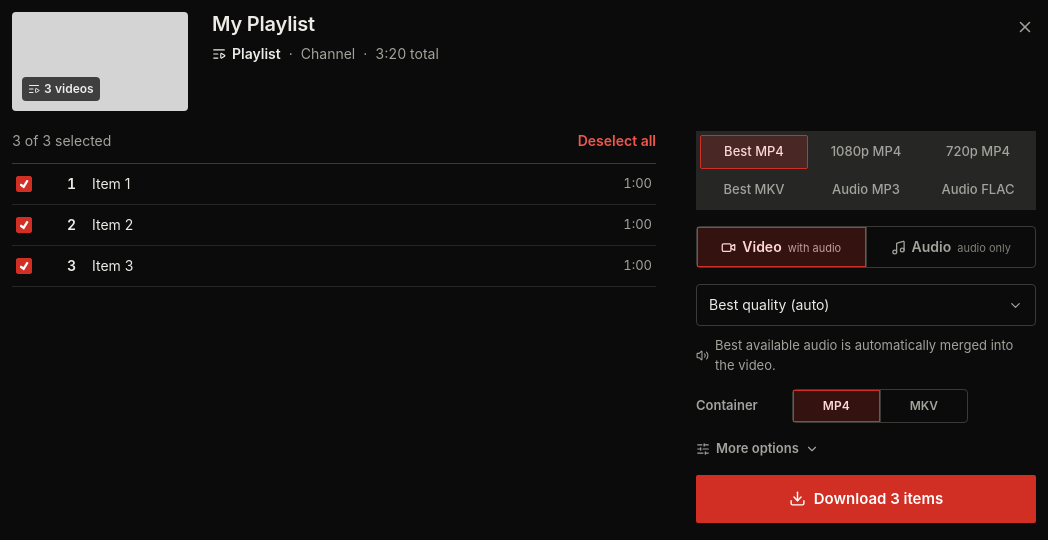
Test: MediaCard › toggles an individual playlist item
Click the checkbox labelled "1 Item 1 1:00": (24, 184) x1=16 y1=176 x2=32 y2=192
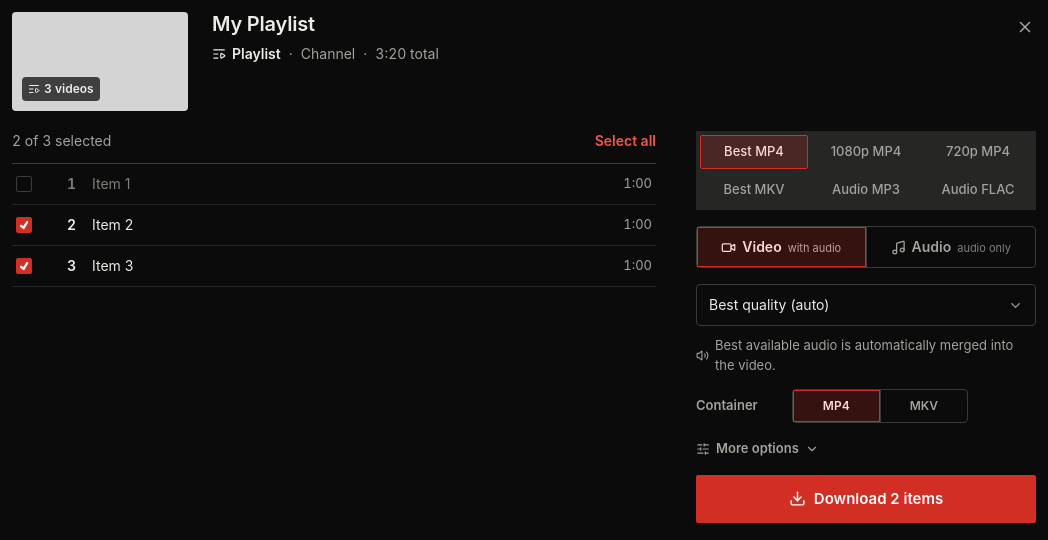
Check: the text "2 of 3 selected" is shown, box x1=12 y1=131 x2=111 y2=151
